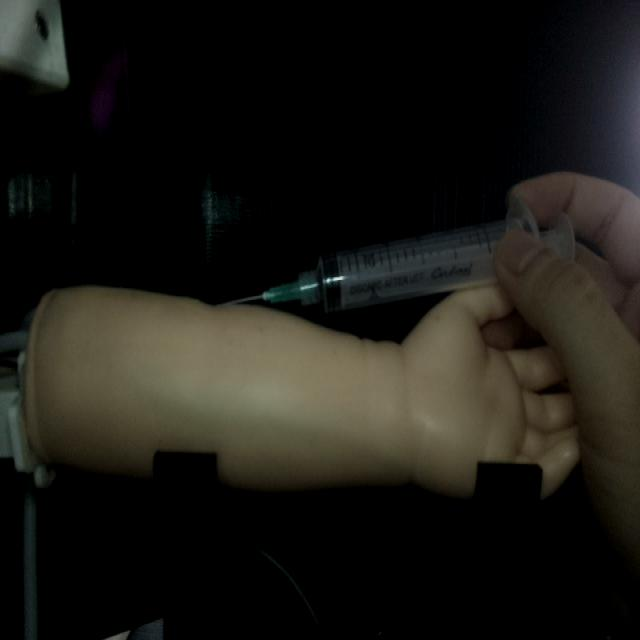Below 15 degrees: (219, 193, 576, 316)
